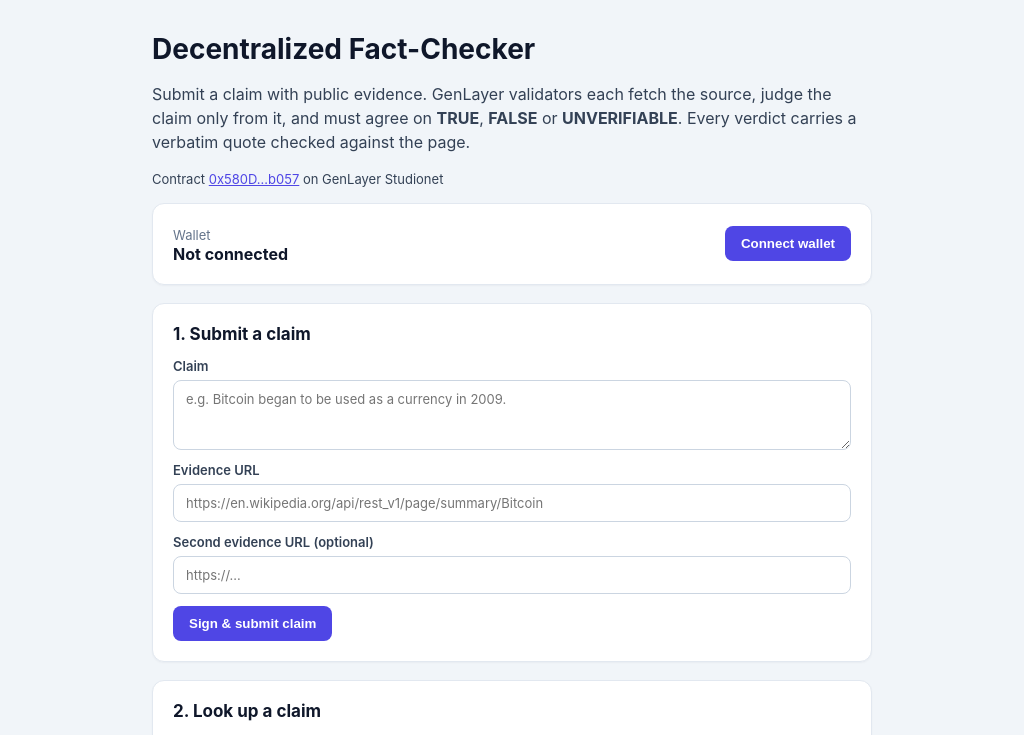
Test: App › validates the form before asking the wallet to sign
Click the button "Connect wallet" at coordinates (788, 244), box [725,226,851,261]
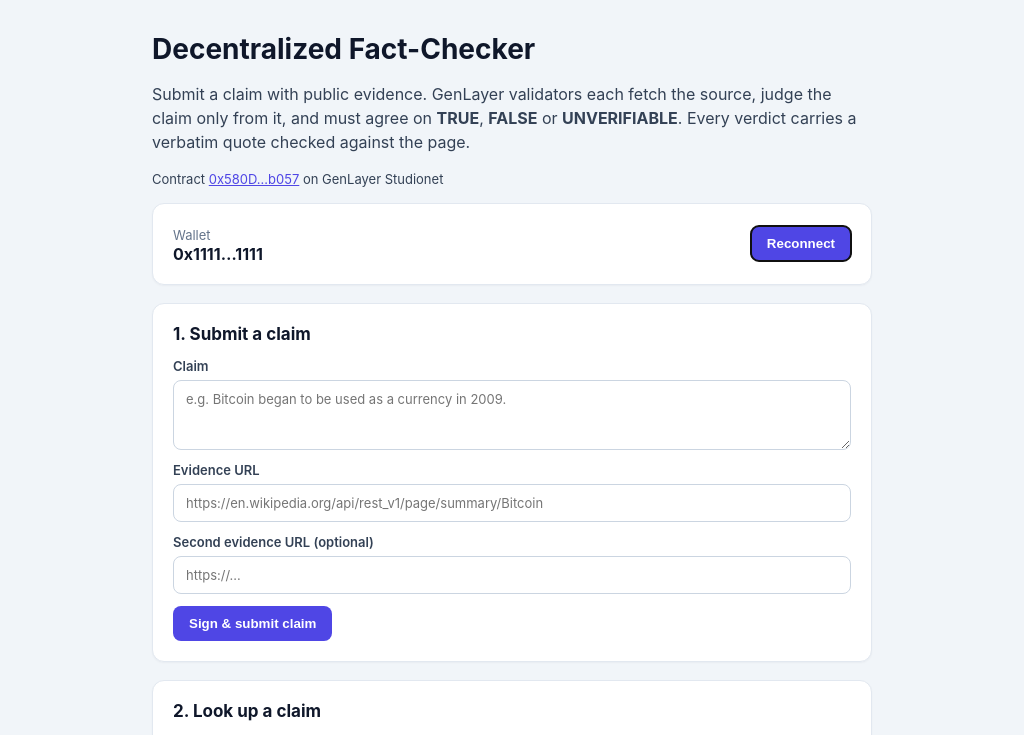
Type "Some claim" into the text box labelled "Claim" at coordinates (512, 414), box [173,380,851,450]
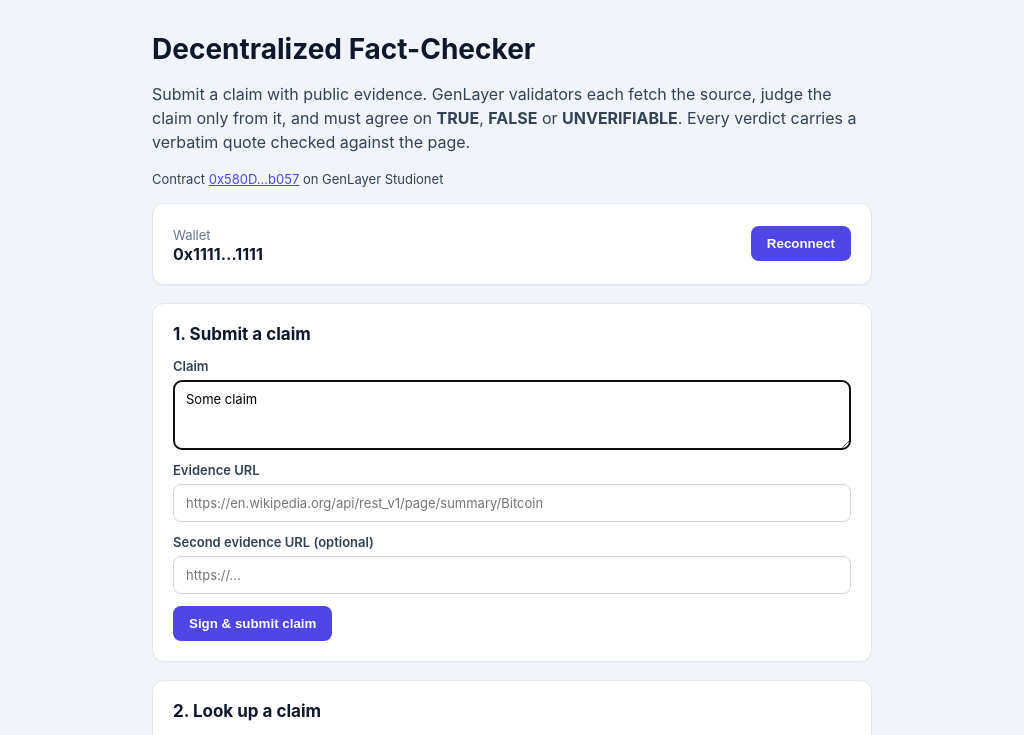
Type "http://insecure.org/x" into the field labelled "Evidence URL" at coordinates (512, 502), box [173,484,851,522]
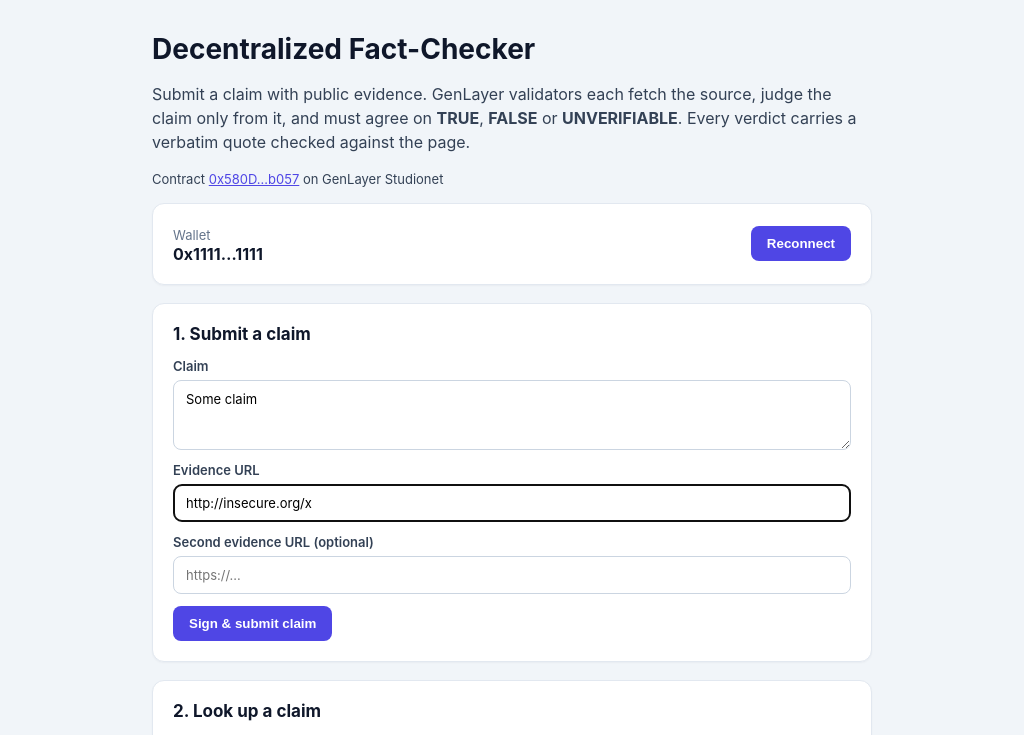
Click the button "Sign & submit claim" at coordinates (253, 623), box [173,606,332,640]
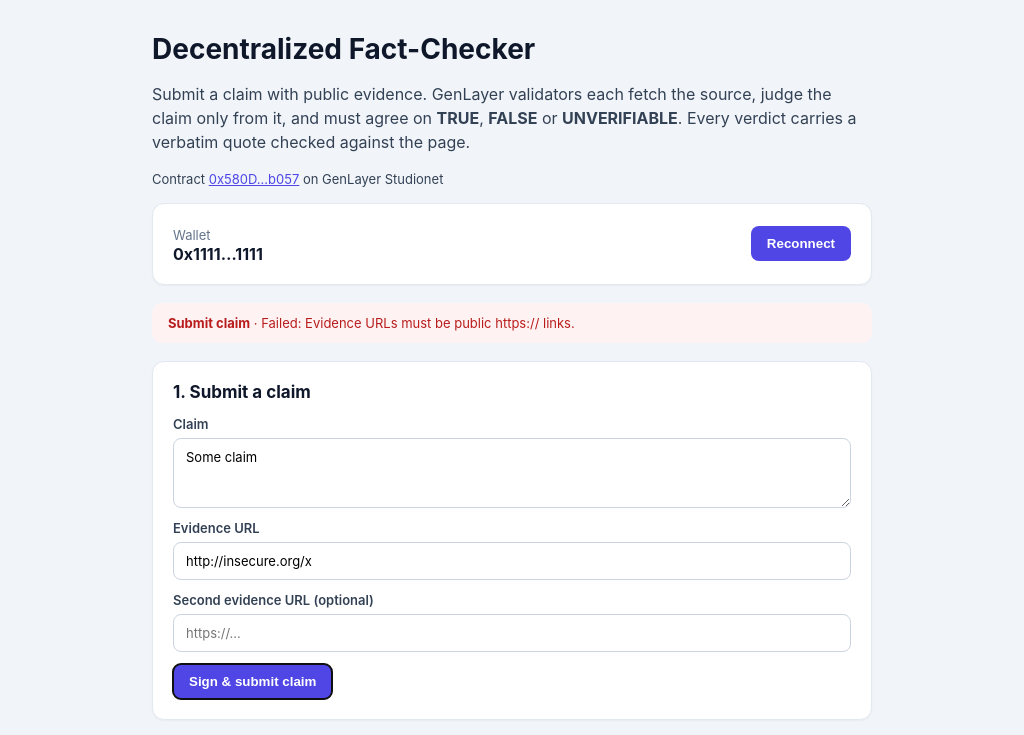
Now the message shows "https://", box [305,314,575,330]
